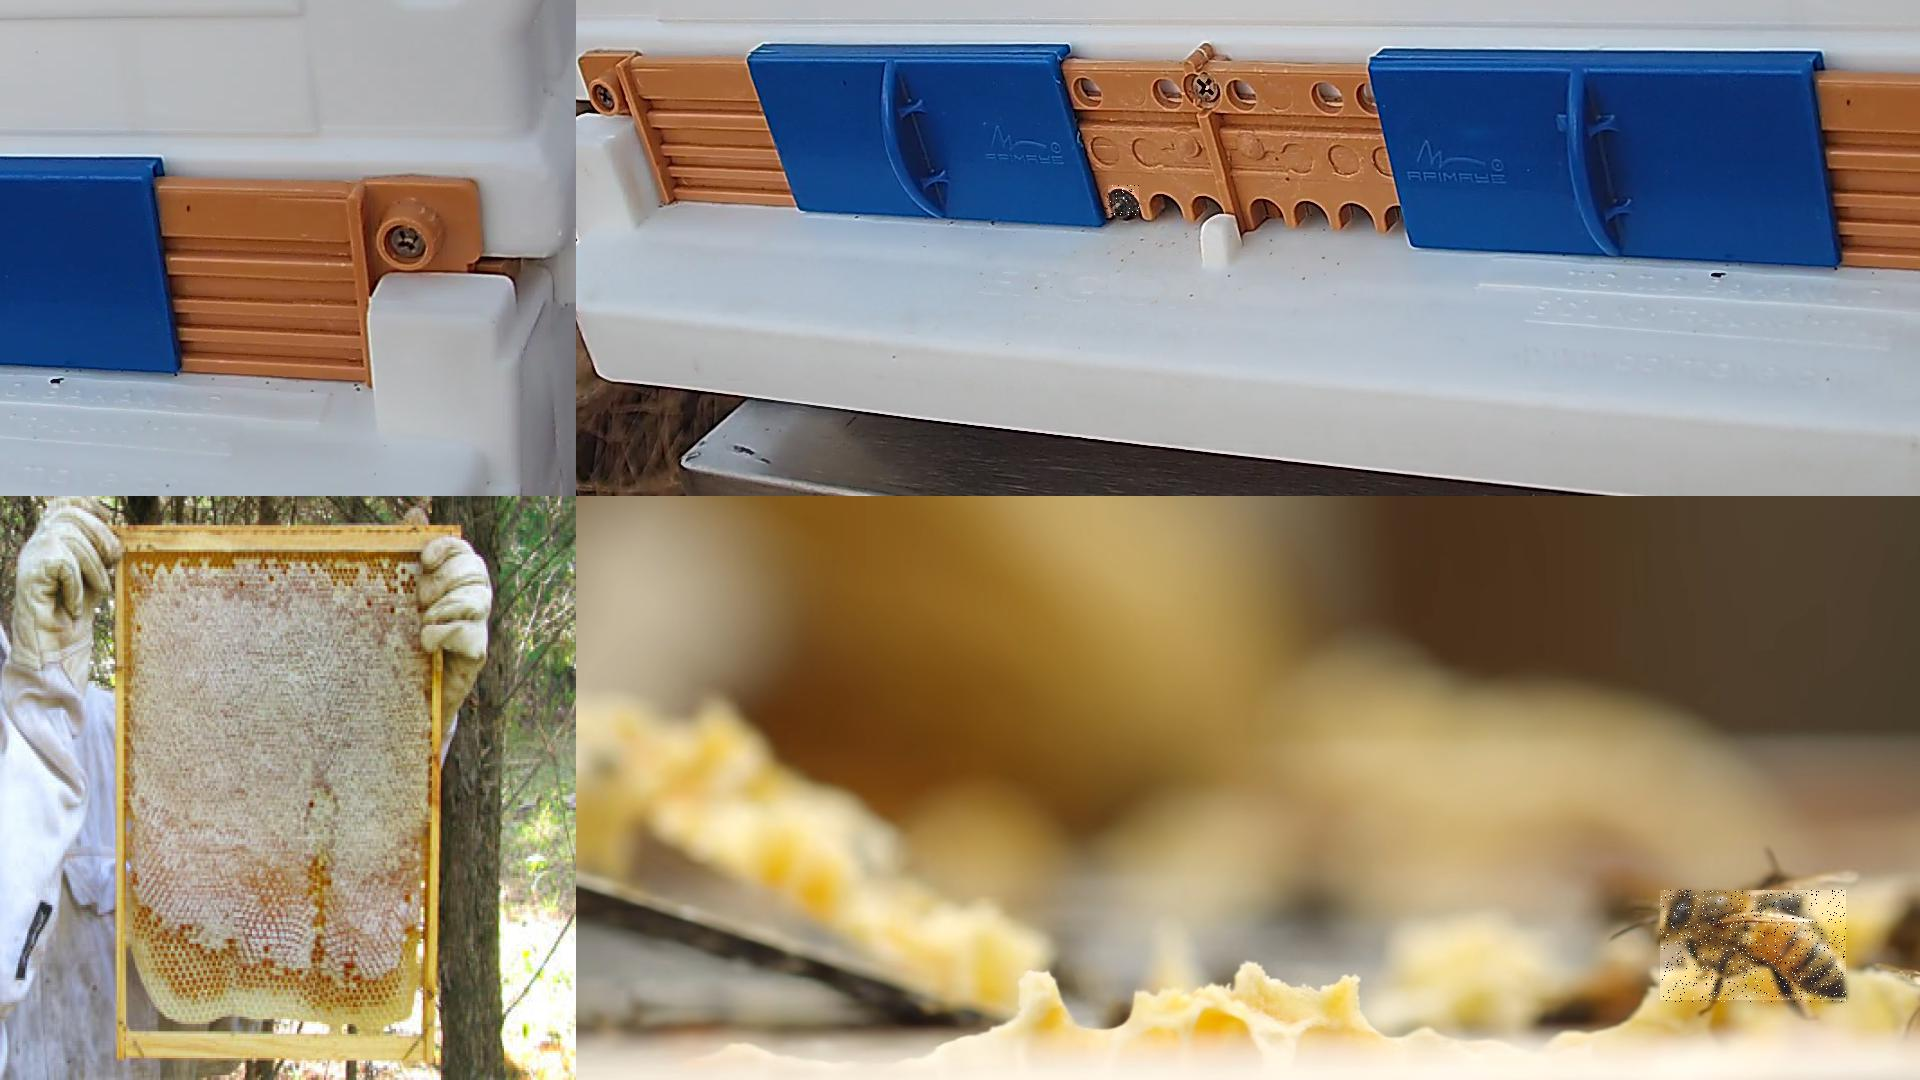bee: (1660, 891, 1847, 1004), (1108, 186, 1140, 217)
